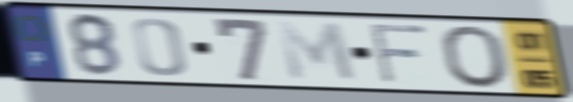0: (129, 15, 189, 78)
7: (209, 16, 271, 83)
8: (65, 11, 123, 78)
F: (366, 21, 431, 86)
M: (273, 19, 361, 85)
O: (437, 23, 512, 90)
